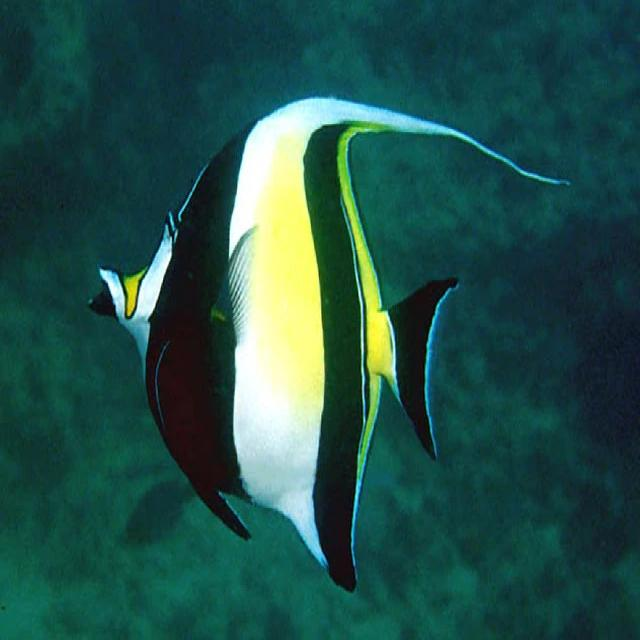MorishIdol: (84, 91, 571, 594)
